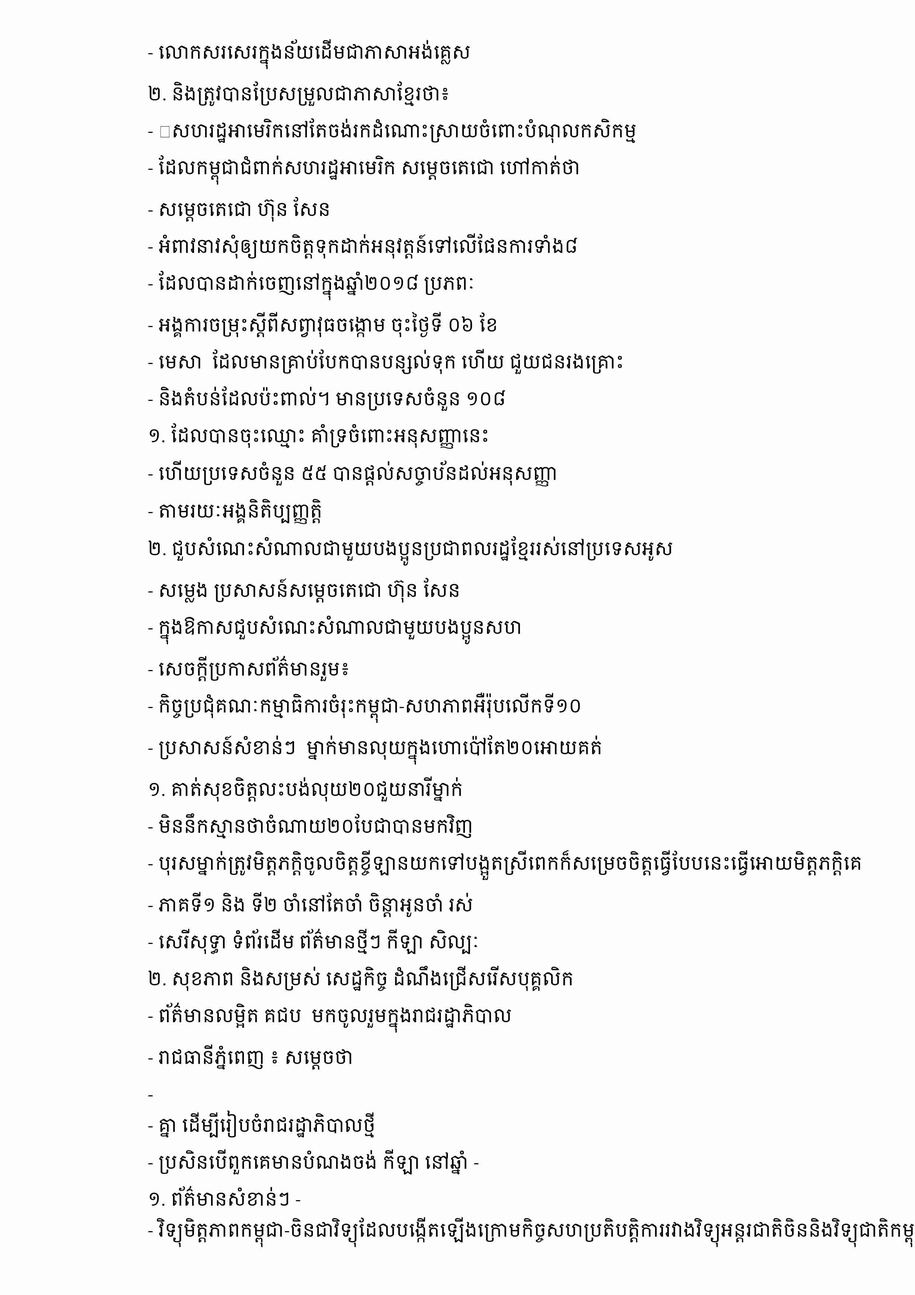text: (148, 1217, 915, 1247), (148, 850, 867, 880), (148, 536, 678, 566), (148, 735, 607, 765), (148, 693, 587, 723), (148, 155, 585, 185), (148, 118, 642, 143), (148, 349, 629, 374), (148, 1002, 517, 1033), (148, 615, 527, 645), (148, 233, 583, 259), (148, 460, 563, 487), (148, 966, 579, 991), (148, 39, 476, 69), (148, 271, 480, 300), (148, 386, 511, 411), (148, 423, 494, 449), (148, 312, 503, 337), (148, 928, 484, 954), (148, 1149, 484, 1175), (148, 813, 478, 839), (148, 776, 468, 802), (148, 892, 478, 917), (148, 578, 465, 603), (148, 81, 455, 106), (148, 1110, 380, 1138), (148, 1044, 358, 1070), (148, 656, 355, 681), (148, 197, 335, 222), (148, 499, 328, 524), (148, 1186, 306, 1206), (148, 1095, 158, 1101)
